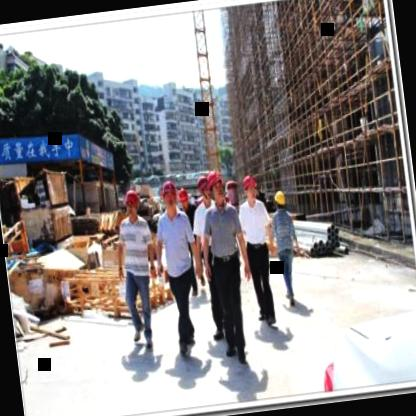helmet: (157, 176, 181, 214), (120, 185, 144, 221), (206, 168, 228, 206), (194, 172, 212, 209), (240, 170, 260, 202), (270, 185, 290, 214), (173, 182, 192, 208)
